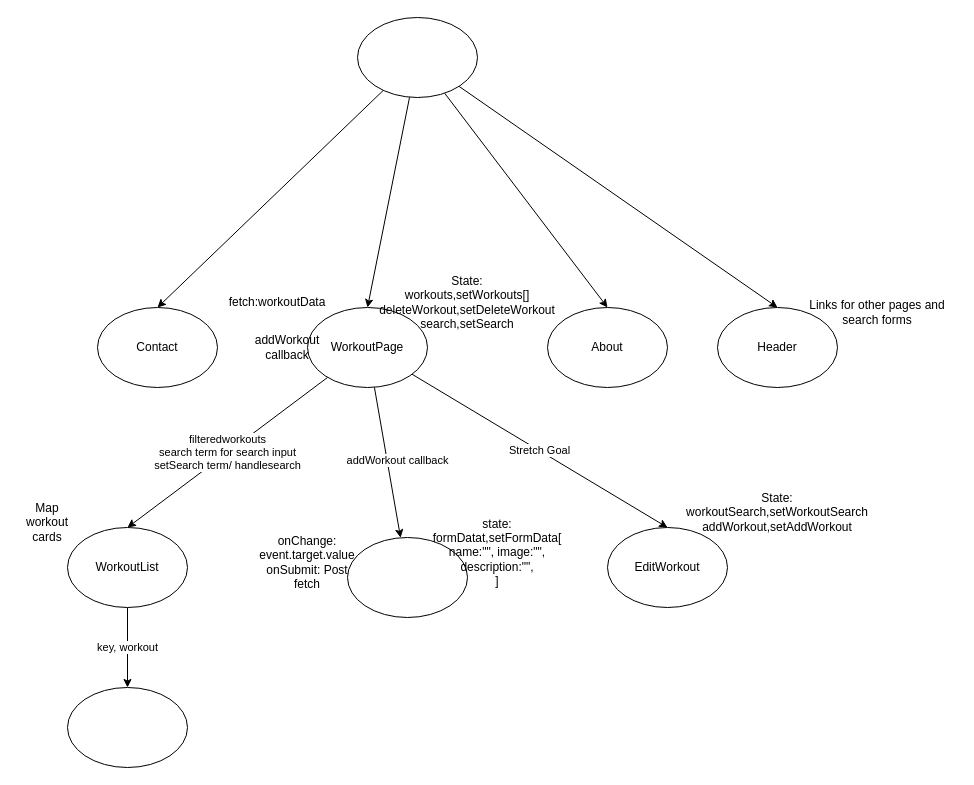
This 974x785 diagram has some shape labels left out. The shapes that lost their labels are listed below. From the top down, each one's centre as x and y in pixels, then its label:
(x=417, y=57): App
(x=407, y=577): AddWorkout
(x=127, y=727): WorkoutCard
